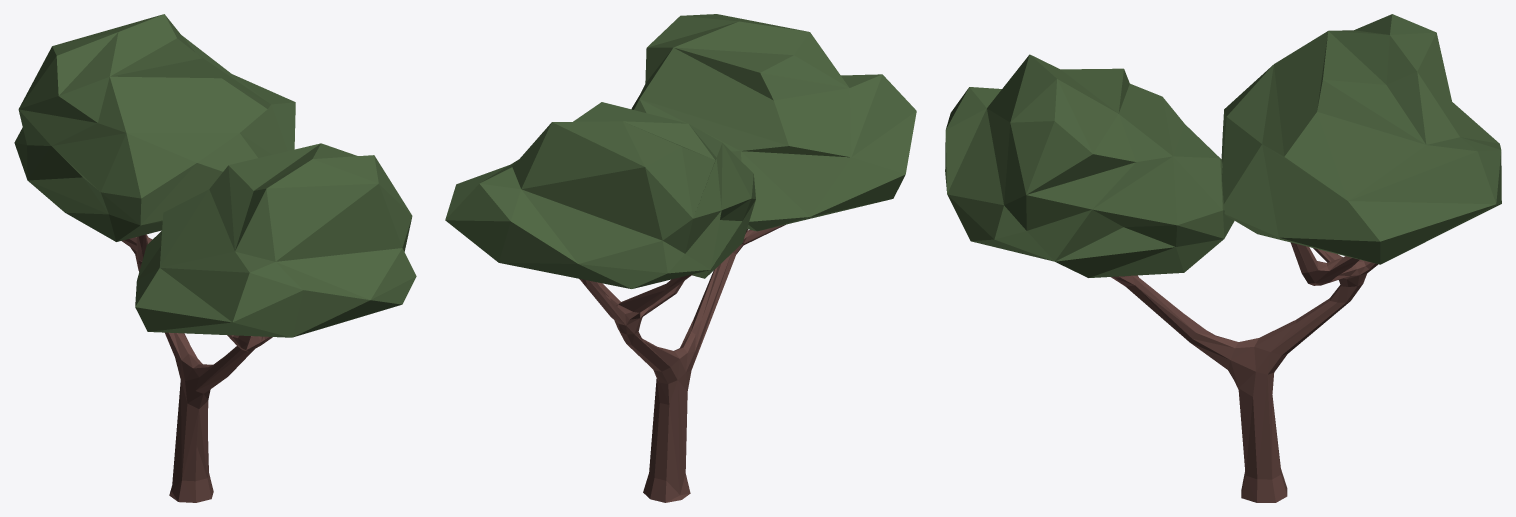
Rendered from q-tree.lod.glb.
3 renders of one model, left to right at view 1: azimuth 30°, elevation 25°; view 2: azimuth 150°, elevation 25°; view 3: azimuth 270°, elevation 25°, orthographic. The views are drawn at different scales.
Size of the model in its own units: 1.89 by 2.48 by 2.77.
